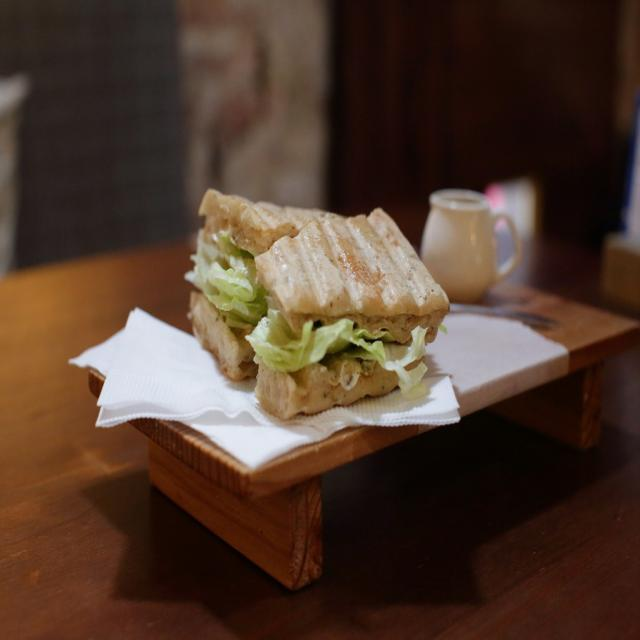Sandwich: (190, 186, 456, 416)
